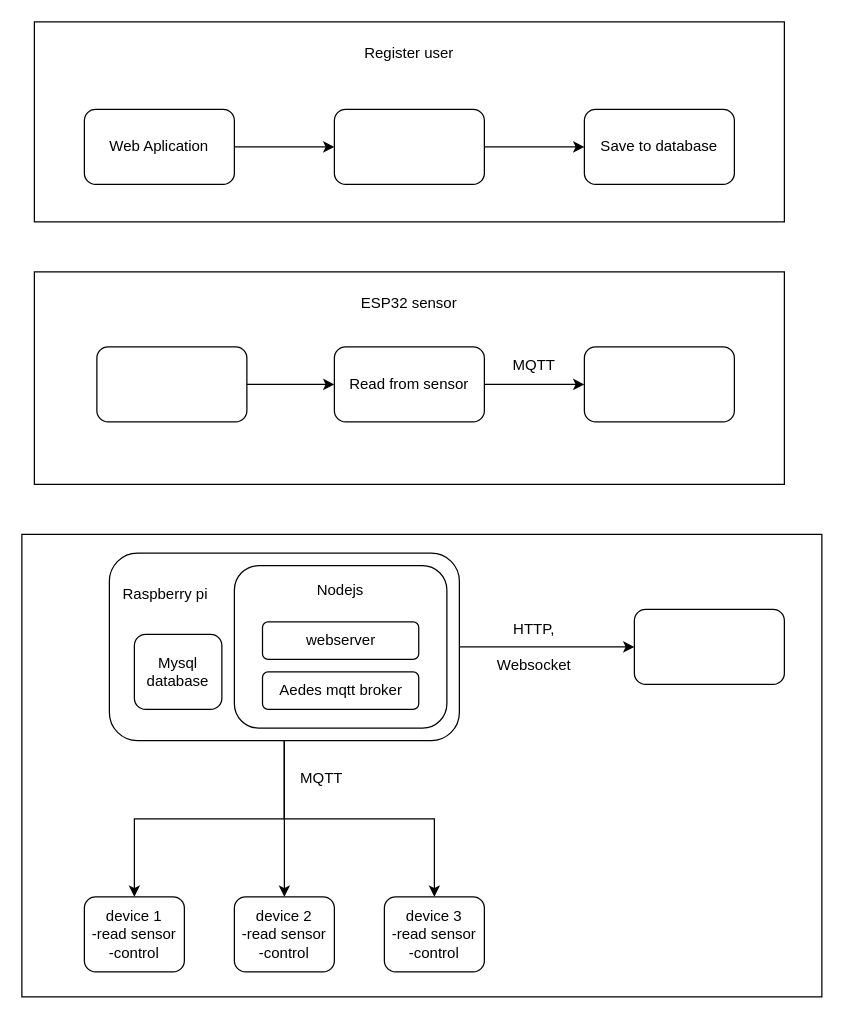
Image size: 844x1019. Some labels were removed from this diagram. The centre of each missing label's shape, as x and y in pixels:
"add email to ESP32" goes at [171,384].
"Register with email" goes at [408,146].
"save to mysql database with email" goes at [658,384].
"Web brower dashboard vue js" goes at [708,646].
